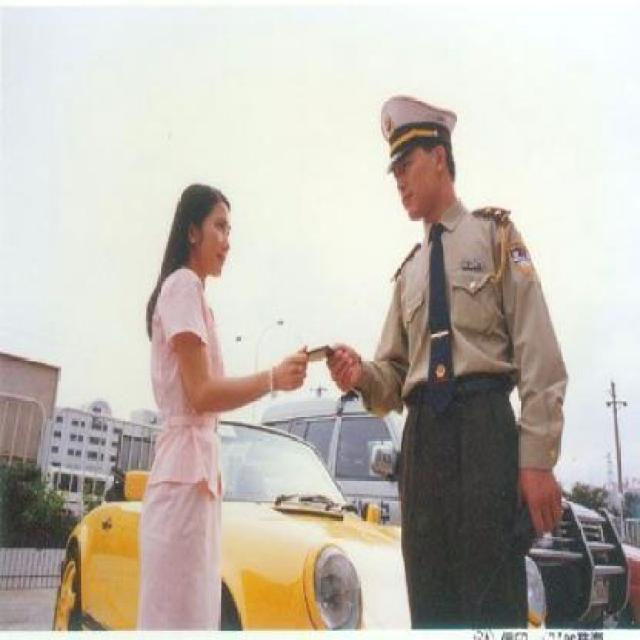face_nomask: (395, 148, 434, 222), (195, 202, 231, 270)
hand_noglove: (511, 463, 563, 535), (324, 337, 358, 395), (271, 343, 309, 391)
head_nohelmet: (374, 97, 458, 160), (171, 178, 238, 220)
person: (338, 101, 572, 640), (123, 171, 306, 640)
